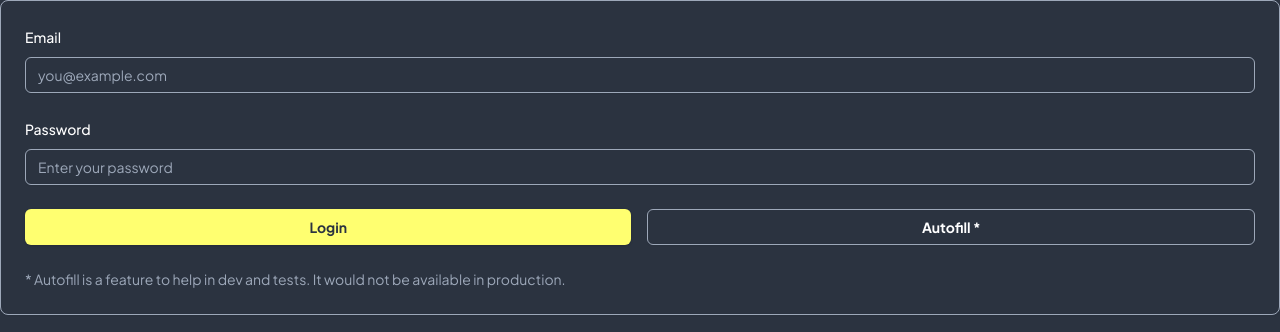
Test: LoginForm › disables buttons and shows loading state during submission
This screenshot has width=1280, height=332.
Type "test@example.com" into the field labelled "Email".
click(640, 75); type("test@example.com")  # box x1=25 y1=57 x2=1255 y2=93
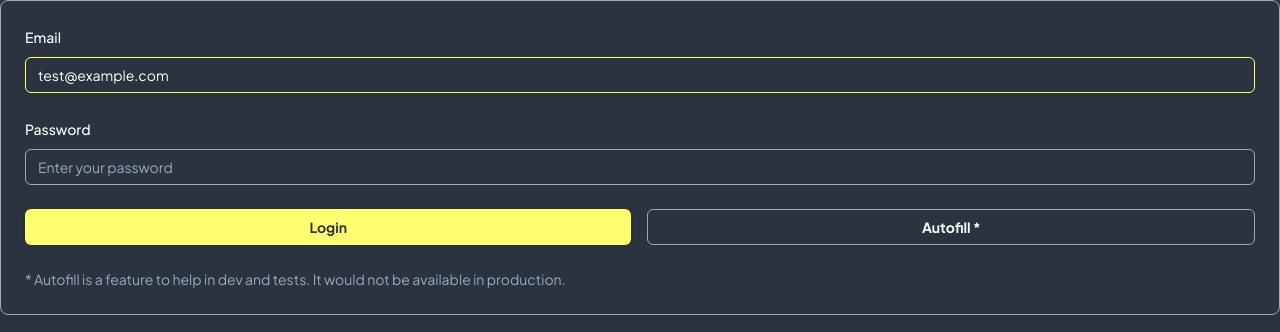
Type "password123" into the password field labelled "Password".
click(640, 167); type("password123")  # box x1=25 y1=149 x2=1255 y2=185
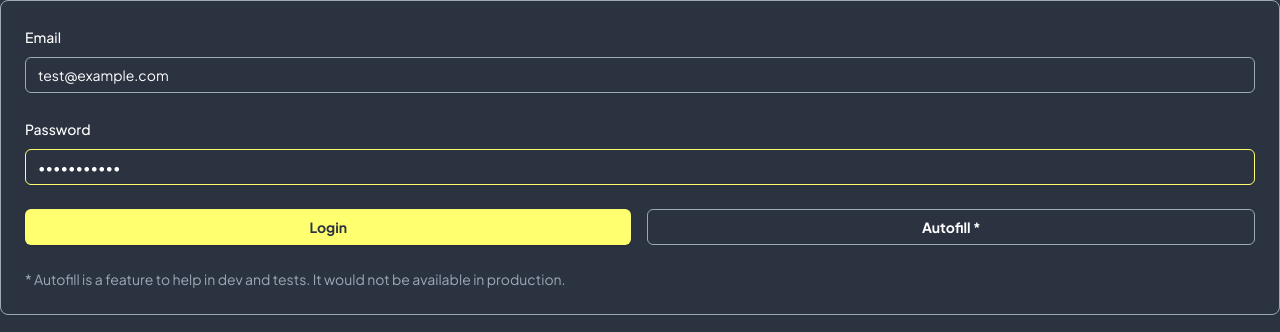
Click the button and check loading state
Click the button "Login".
click(328, 227)  # box x1=25 y1=209 x2=632 y2=245
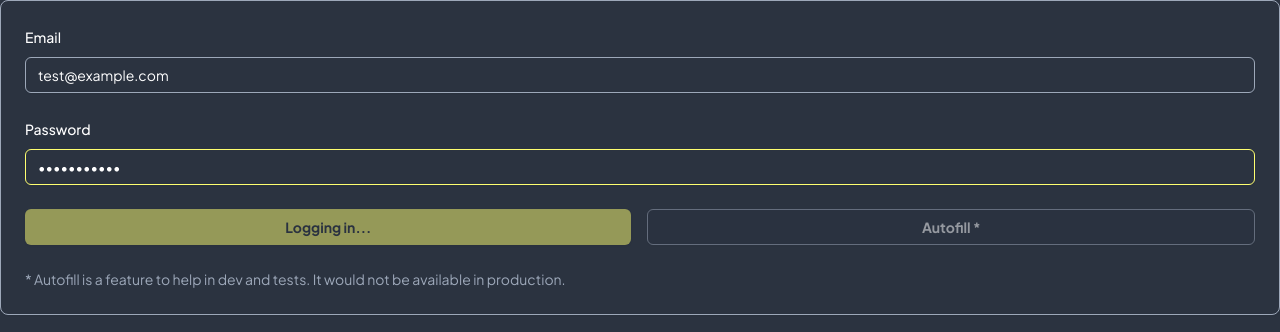
Result: the button named "Login" is disabled at x1=25 y1=209 x2=632 y2=245
Result: the button named "Login" reads "Logging in..." at x1=25 y1=209 x2=632 y2=245
Result: the button "Autofill *" is disabled at x1=648 y1=209 x2=1255 y2=245
